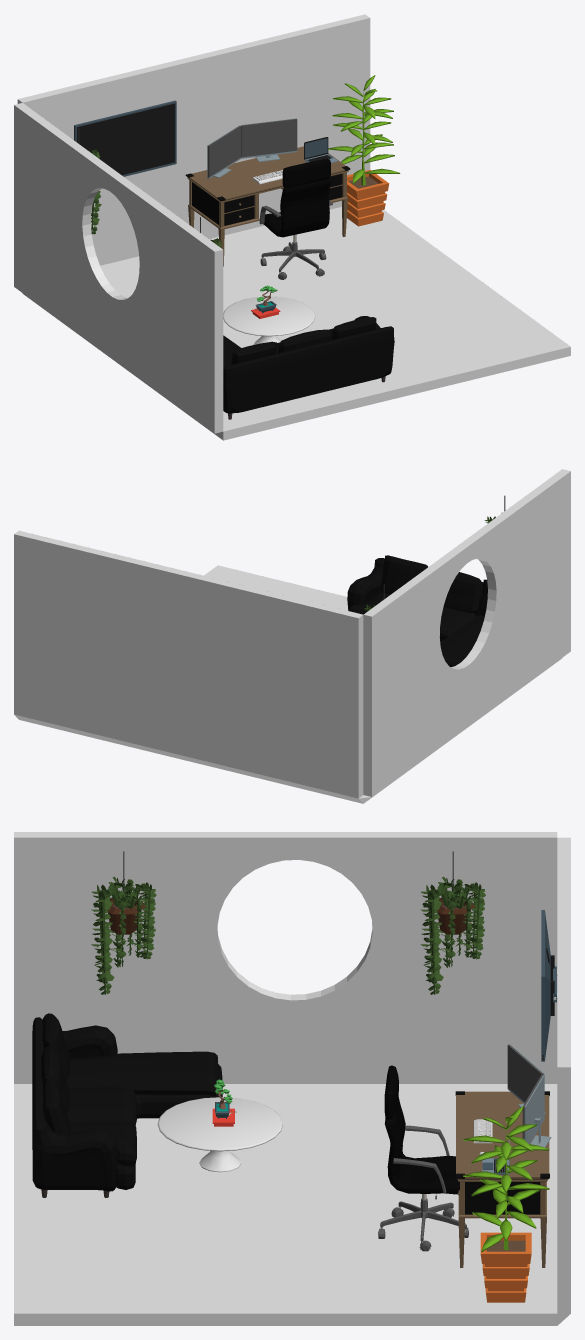
The model's file is room.glb.
3 renders of one model, top to bottom at view 1: azimuth 30°, elevation 25°; view 2: azimuth 150°, elevation 25°; view 3: azimuth 270°, elevation 25°, orthographic. The views are drawn at different scales.
Visible parts, largest first — view 1: Plane, Sofa, Table, FlatTv, Chair, Plant, TableCircular, Monitor2, Monitor1, MacBook; view 2: Plane, Sofa; view 3: Plane, Sofa, Table, Plant, Chair, TableCircular, FlowerPot1, FlowerPot2, FlatTv, Monitor1, Monitor2, Bonsai.
Boxes of the visible parts, x1,y1,x2,y2 form: Plane: (14, 14, 570, 440); Sofa: (223, 316, 394, 419); Table: (185, 146, 350, 266); FlatTv: (74, 100, 176, 176); Chair: (259, 159, 332, 279); Plant: (328, 75, 400, 226); TableCircular: (223, 296, 315, 344); Monitor2: (241, 118, 297, 161); Monitor1: (207, 125, 241, 178); MacBook: (304, 137, 337, 163); Plane: (14, 469, 570, 803); Sofa: (347, 555, 487, 666); Plane: (14, 832, 570, 1325); Sofa: (32, 1013, 222, 1197); Table: (455, 1091, 549, 1267); Plant: (463, 1106, 549, 1302); Chair: (378, 1065, 468, 1251); TableCircular: (157, 1097, 282, 1172); FlowerPot1: (420, 851, 485, 994); FlowerPot2: (91, 851, 156, 994); FlatTv: (541, 910, 557, 1061); Monitor1: (507, 1044, 545, 1113); Monitor2: (522, 1074, 551, 1147); Bonsai: (212, 1079, 236, 1126).
Bounding box in the file's own units: 8.34 × 4.2 × 8.2.
